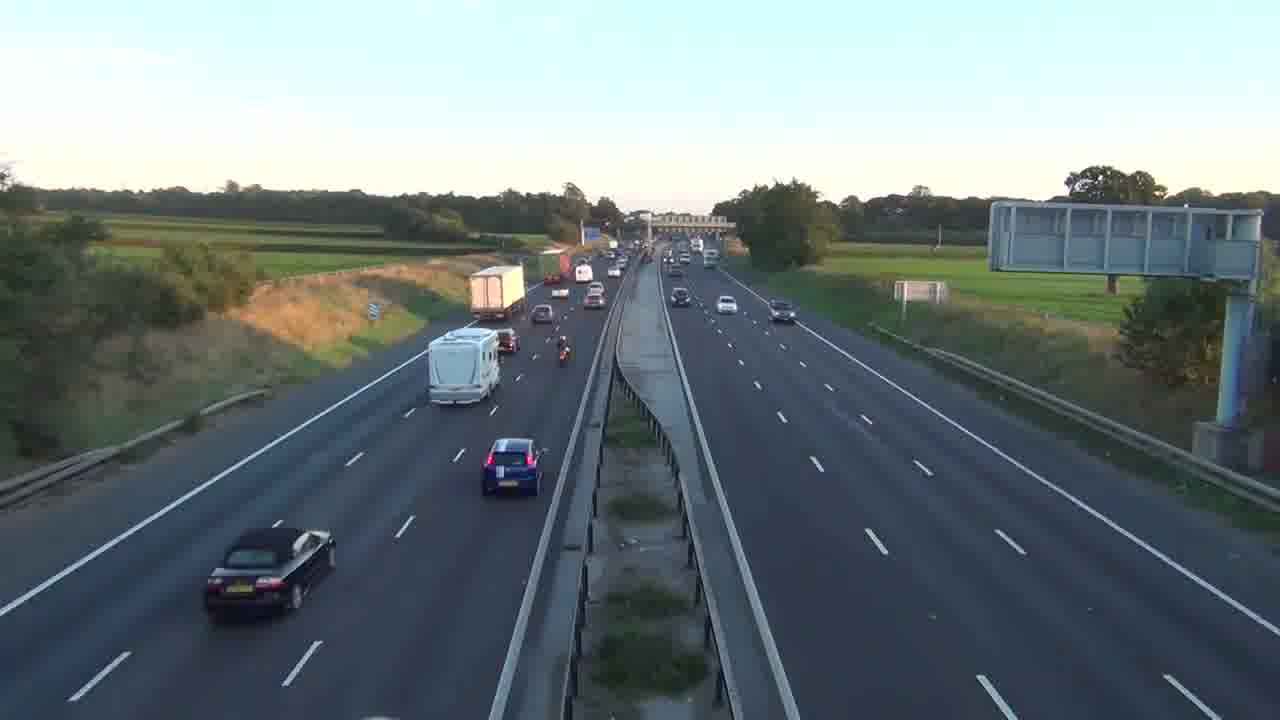car: (204, 523, 337, 622), (480, 436, 546, 497), (717, 294, 737, 313), (671, 287, 691, 306)
truck: (204, 523, 337, 622), (426, 326, 502, 406), (465, 262, 526, 321)
